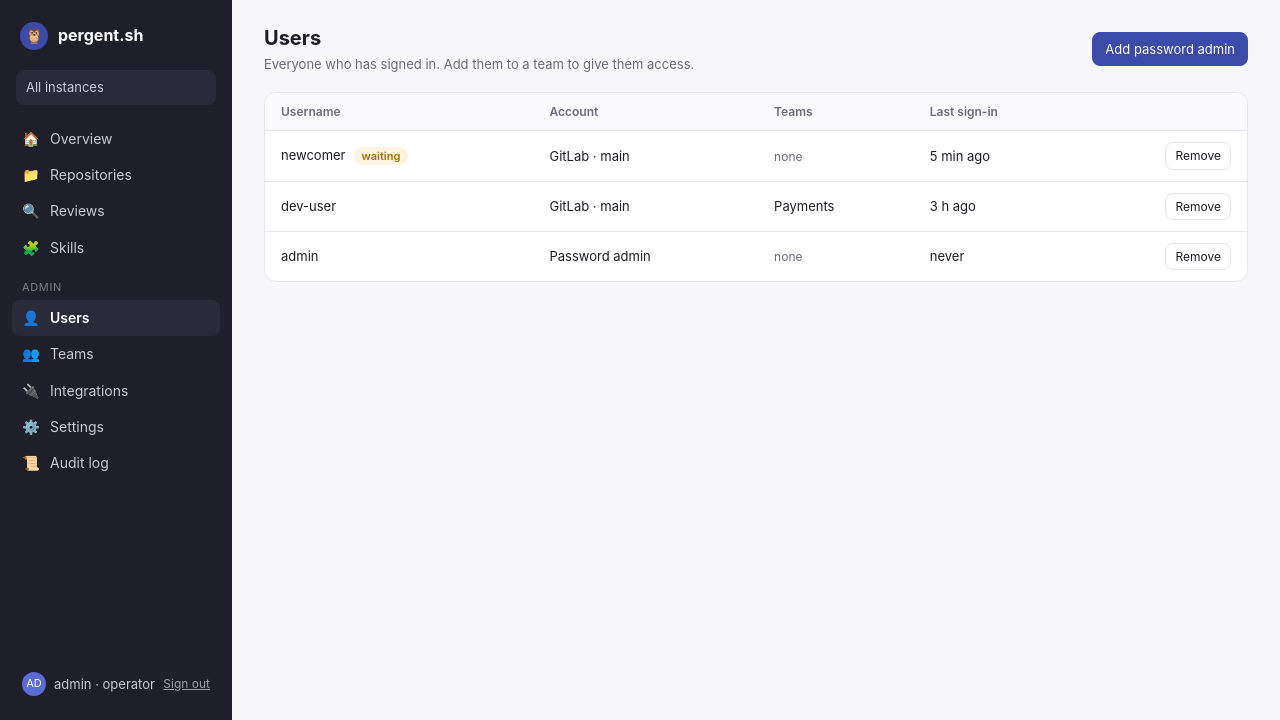
Users › shows why an account can't be removed
This screenshot has width=1280, height=720.
Click the button "Remove" in the row of "never" at (1198, 257), box [1166,243,1231,270]
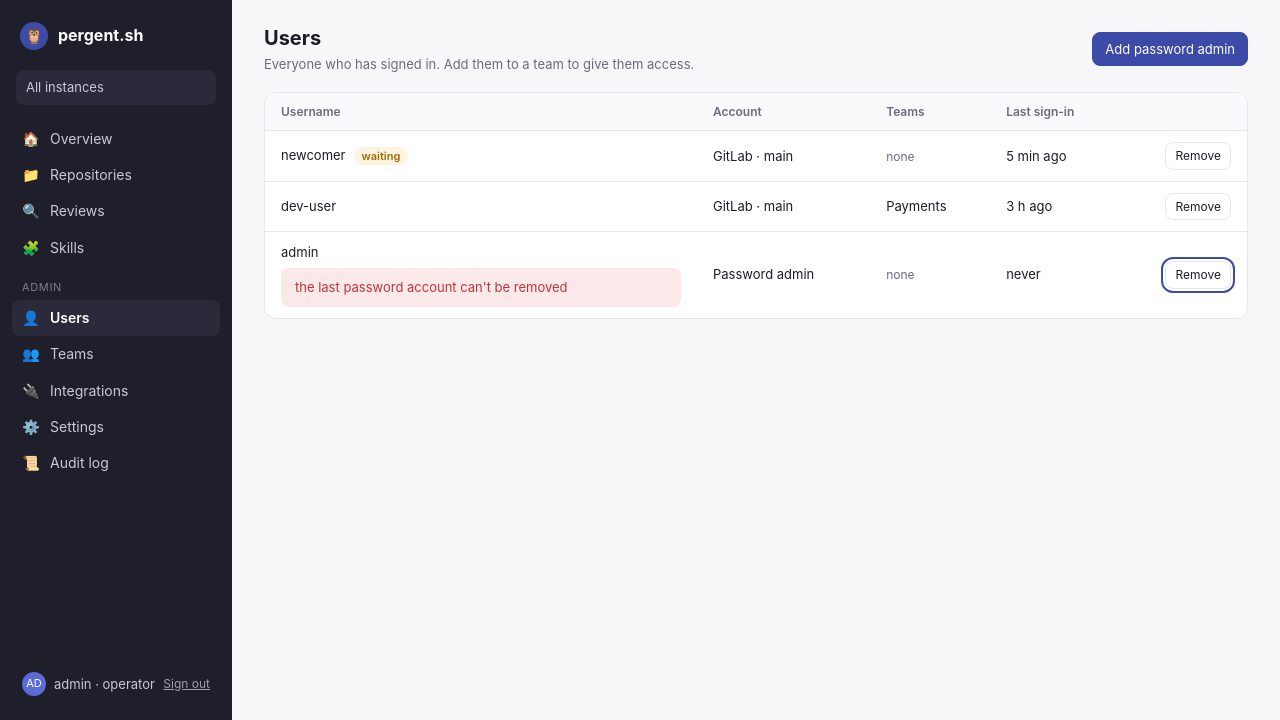
Now the message reads "the last password account can't be removed", box [295,279,568,295]
